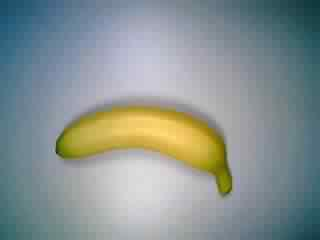banana: (50, 98, 237, 199)
